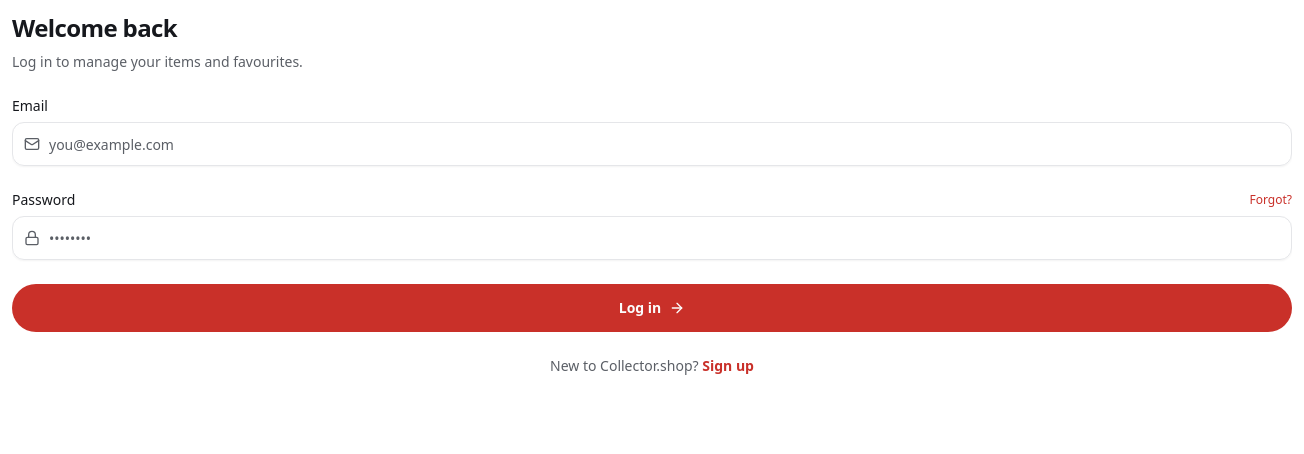
Scenario: LoginForm › affiche une alerte si les identifiants sont invalides
Type "a@b.co" into the field labelled "Email" at (652, 144), box [12,122,1292,166]
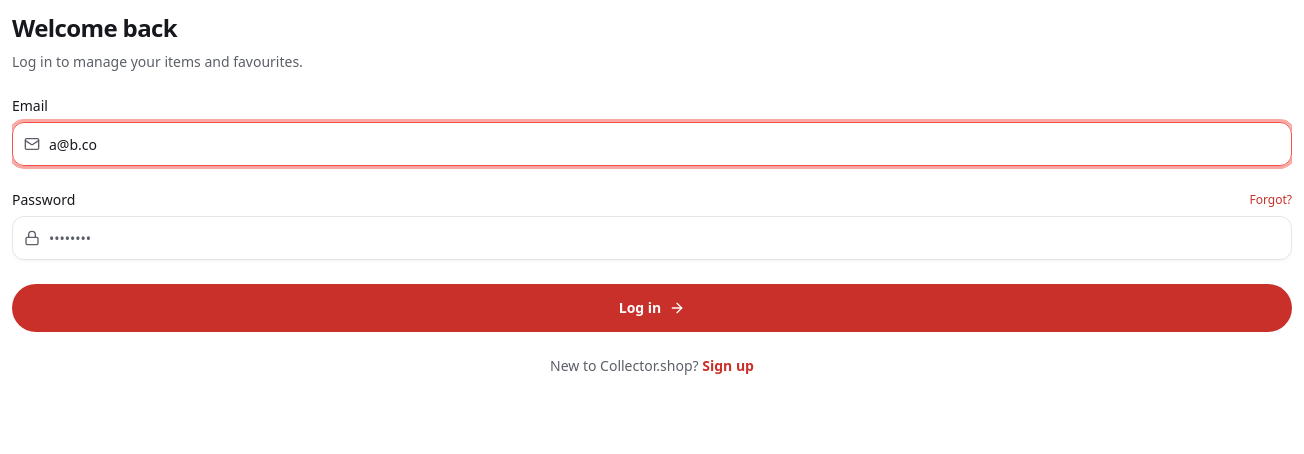
Type "secret12" into the password field labelled "Password" at (652, 238), box [12,216,1292,260]
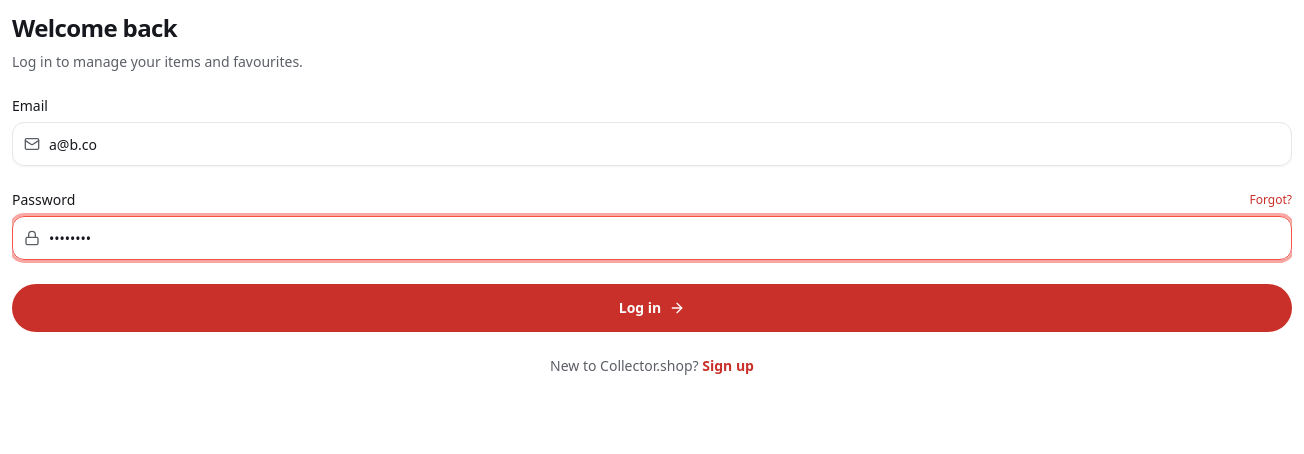
Click the button "Log in" at (652, 308), box [12,284,1292,332]
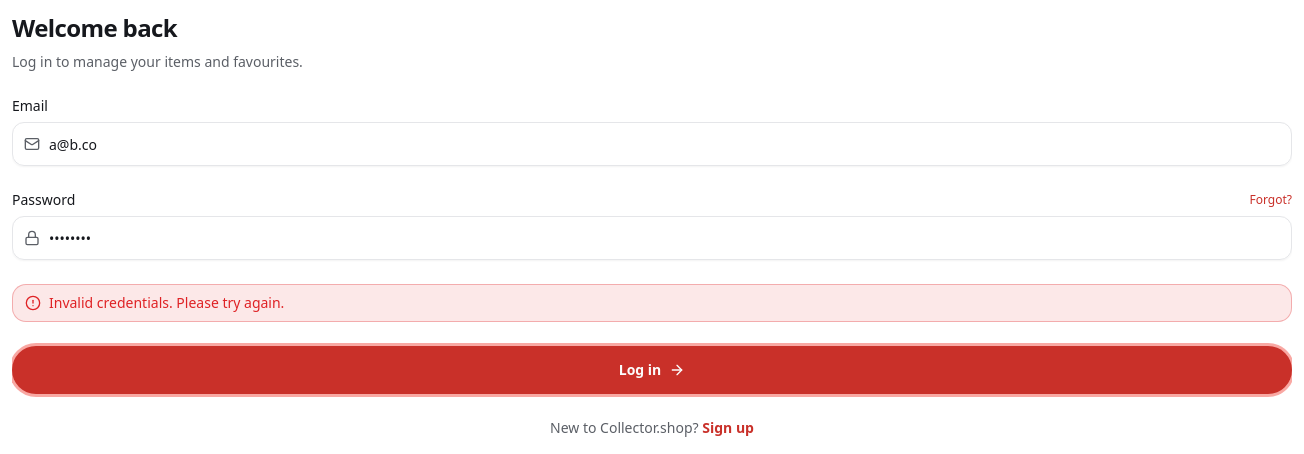
Expected: the message "Invalid credentials. Please try again." is shown, [12,284,1292,322]
